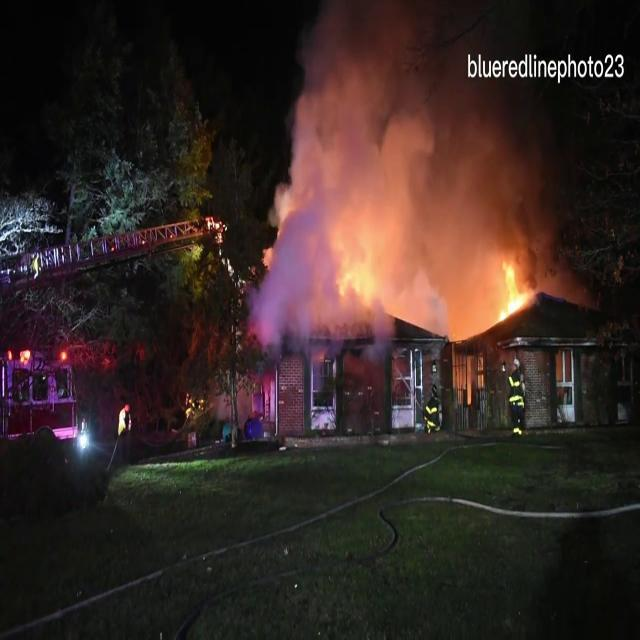Fire: (486, 252, 540, 330)
Smoke: (248, 1, 570, 323)
